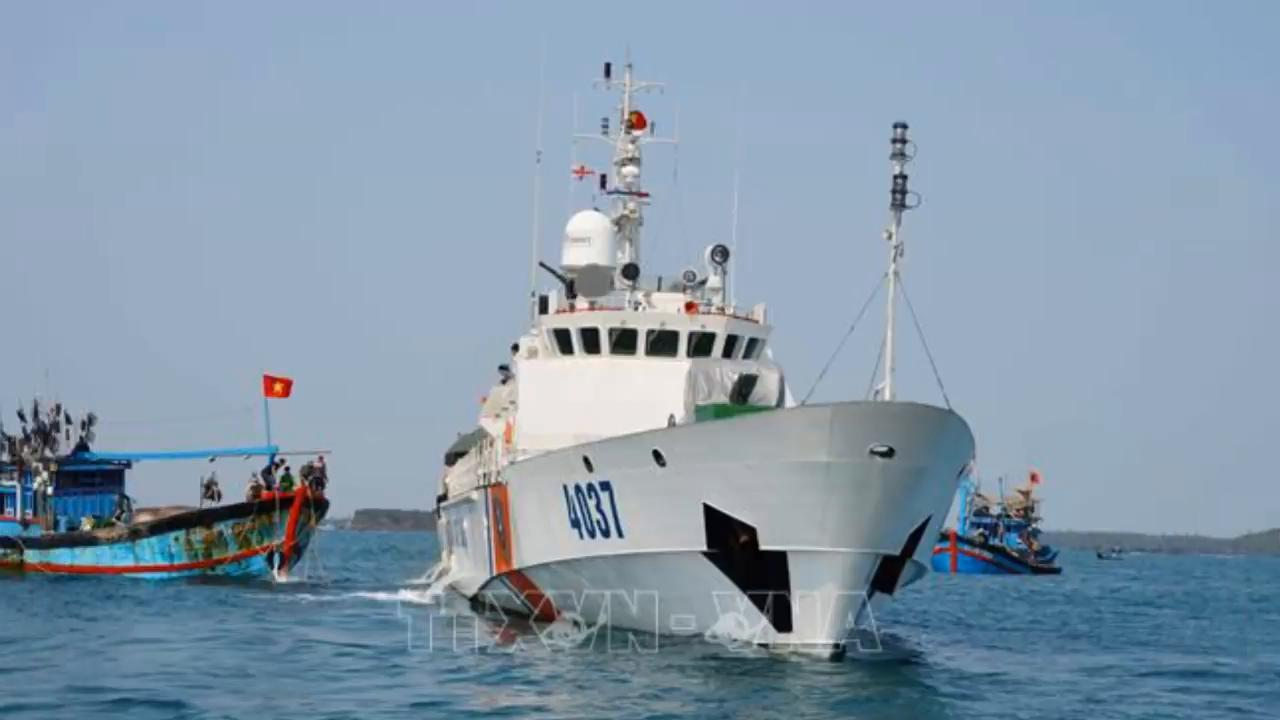Ship: (437, 81, 990, 679), (1, 423, 342, 591), (937, 492, 1077, 577)
